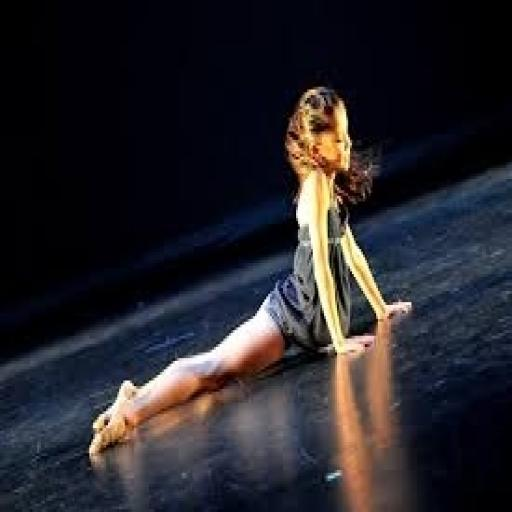dancing: (86, 81, 415, 462)
